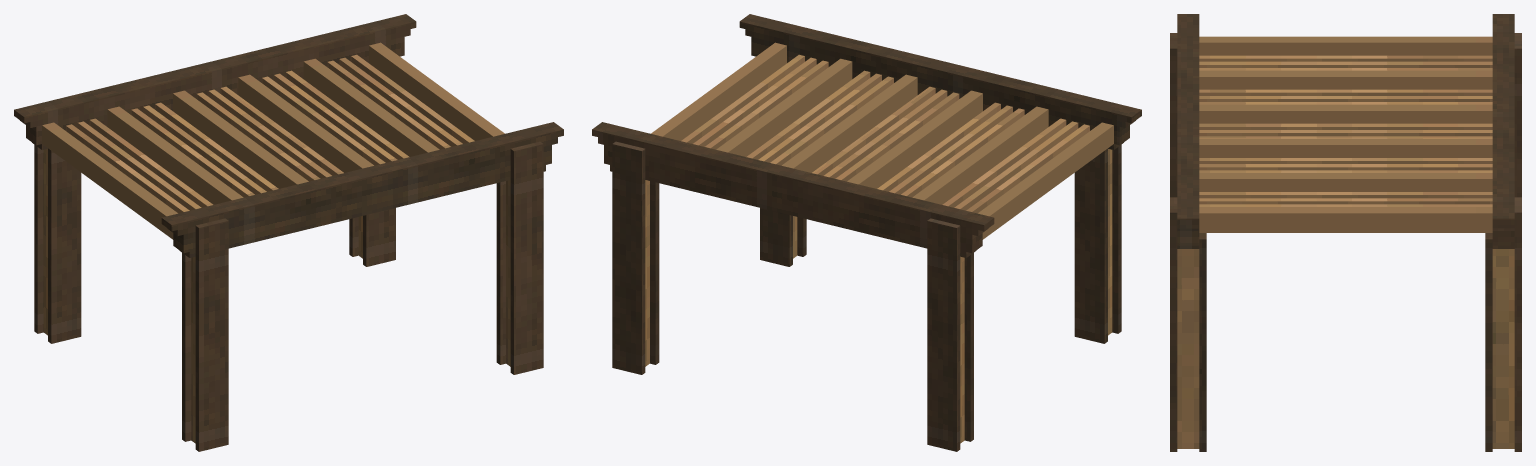
The model's file is CarPort.fbx.
3 renders of one model, left to right at view 1: azimuth 30°, elevation 25°; view 2: azimuth 150°, elevation 25°; view 3: azimuth 270°, elevation 25°, orthographic. The views are drawn at different scales.
Parts seen in each view (by area): view 1: CarPort; view 2: CarPort; view 3: CarPort.
Part boxes in pixels (bbox=[...]): CarPort: bbox=[14, 14, 563, 451]; CarPort: bbox=[592, 14, 1141, 451]; CarPort: bbox=[1170, 14, 1521, 451].
Bounding box in the file's own units: 327 × 183 × 238.
Materials: 2 (2 with a texture image).
